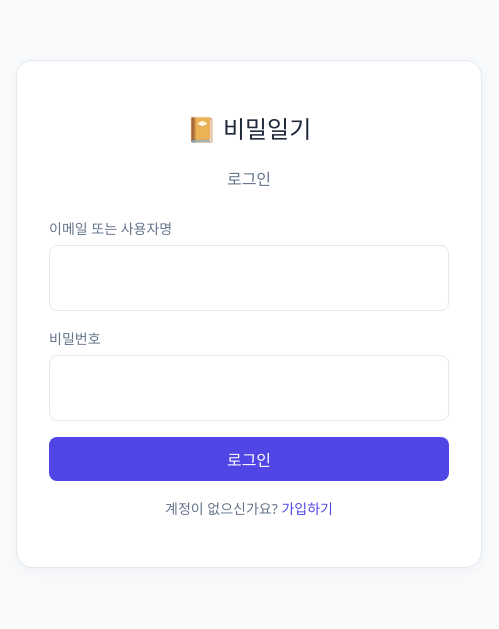
Test case: LoginPage › 로그인 실패(401) 시 에러 메시지를 표시하고 화면을 이동하지 않는다
The image size is (499, 629).
Type "user@example.com" into the field with id "identifier" at [249, 278], box [49,245,449,311]
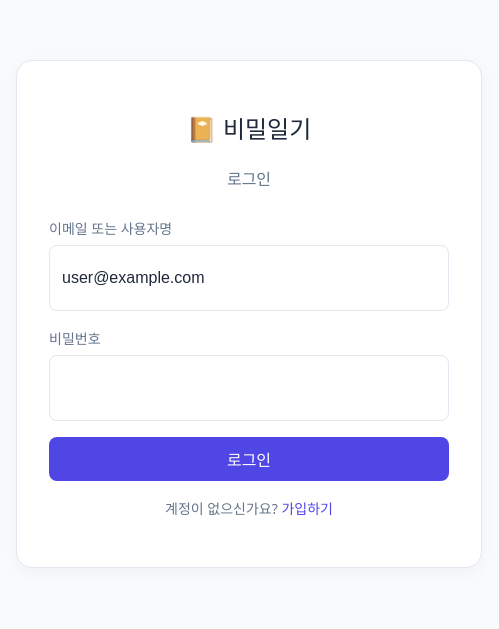
Type "wrong-password" into the password field labelled "비밀번호" at [249, 388], box [49,355,449,421]
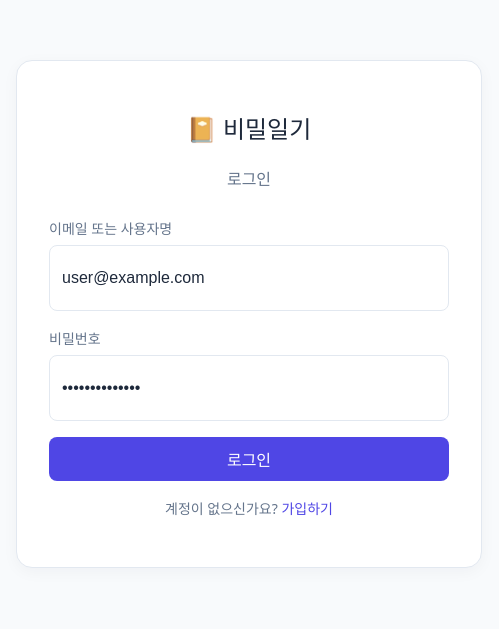
Submit the form, box [49,217,449,481]
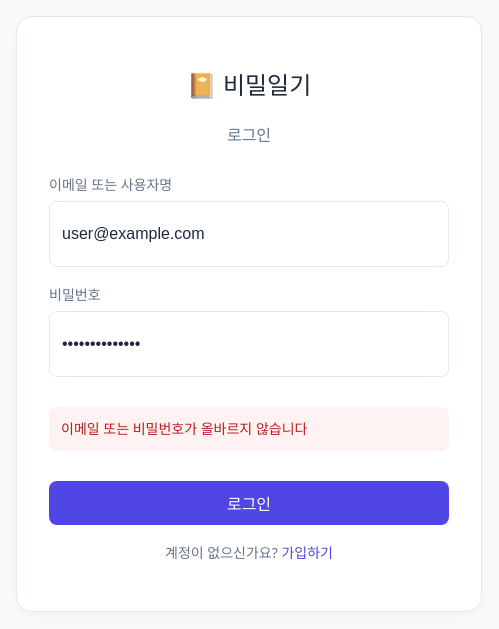
Expected: the text "이메일 또는 비밀번호가 올바르지 않습니다" is shown, [49,407,449,451]
